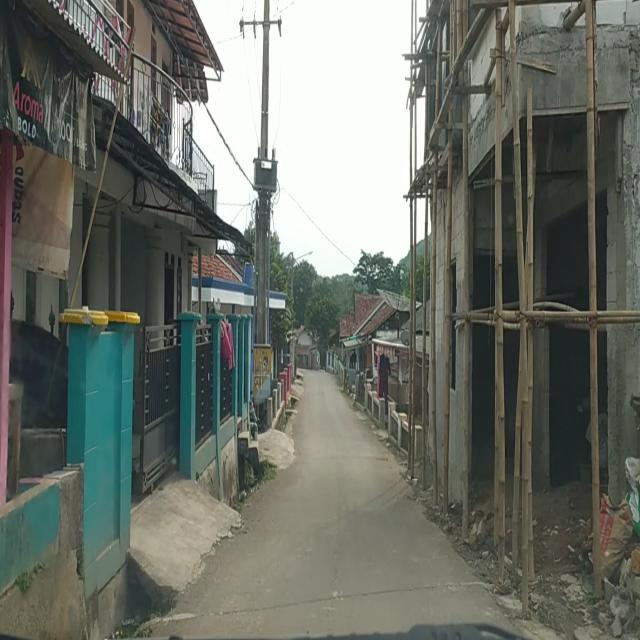Sewer Cover: (197, 582, 461, 620)
